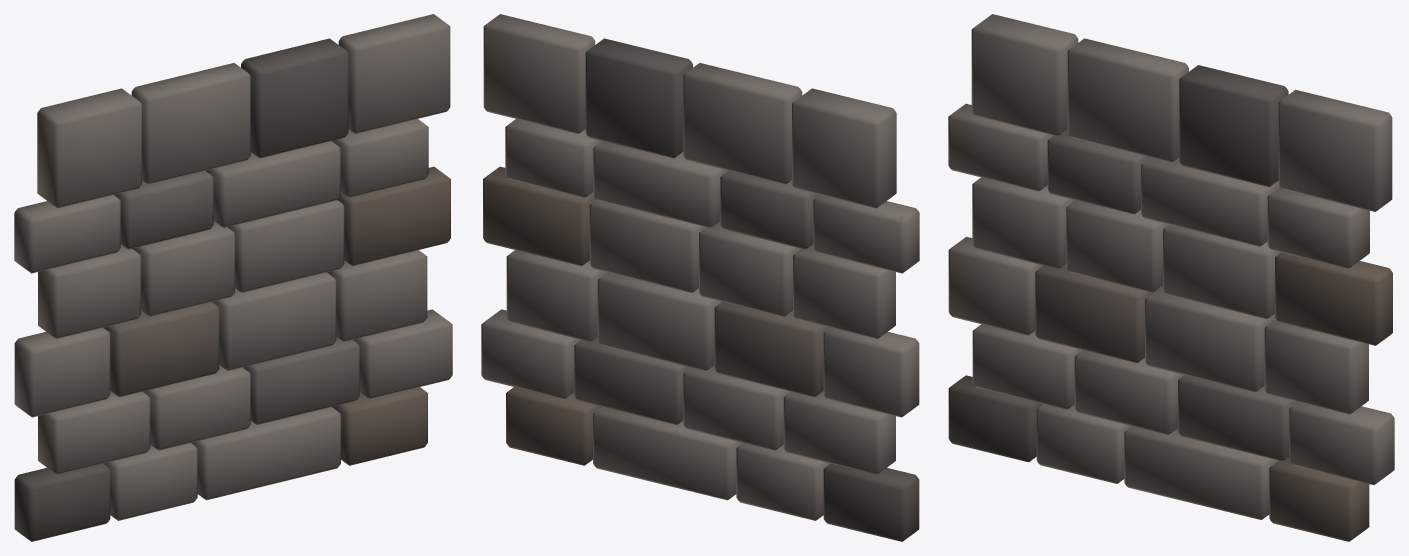
The model's file is StoneWall1.fbx.
3 renders of one model, left to right at view 1: azimuth 30°, elevation 25°; view 2: azimuth 150°, elevation 25°; view 3: azimuth 330°, elevation 25°, orthographic.
Visible parts, largest first — view 1: StoneWall; view 2: StoneWall; view 3: StoneWall.
Part boxes in pixels (box(x1,y1,x2,y2)): StoneWall: box(14, 14, 452, 541); StoneWall: box(481, 14, 919, 541); StoneWall: box(948, 14, 1394, 541).
Bounding box in the file's own units: 1051 × 990 × 93.
Materials: 1 (1 with a texture image).
